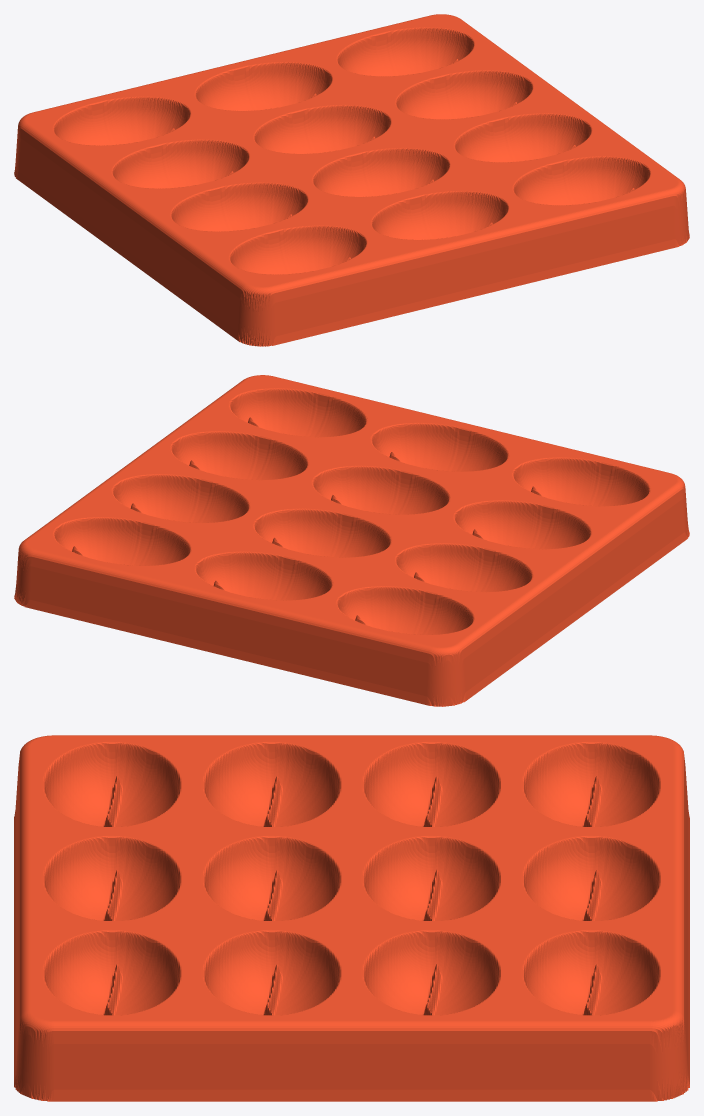
The model's file is mold.glb.
The picture shows the model from 3 angles, top to bottom: view 1: azimuth 30°, elevation 25°; view 2: azimuth 150°, elevation 25°; view 3: azimuth 270°, elevation 25°; orthographic projection. The views are drawn at different scales.
Visible parts, largest first — view 1: geometry_0; view 2: geometry_0; view 3: geometry_0.
Boxes of the visible parts, bbox=[...] form: geometry_0: bbox=[14, 14, 689, 346]; geometry_0: bbox=[14, 375, 689, 706]; geometry_0: bbox=[14, 735, 689, 1101].
Size of the model in its own units: 0.1598 by 0.0185 by 0.1531.
